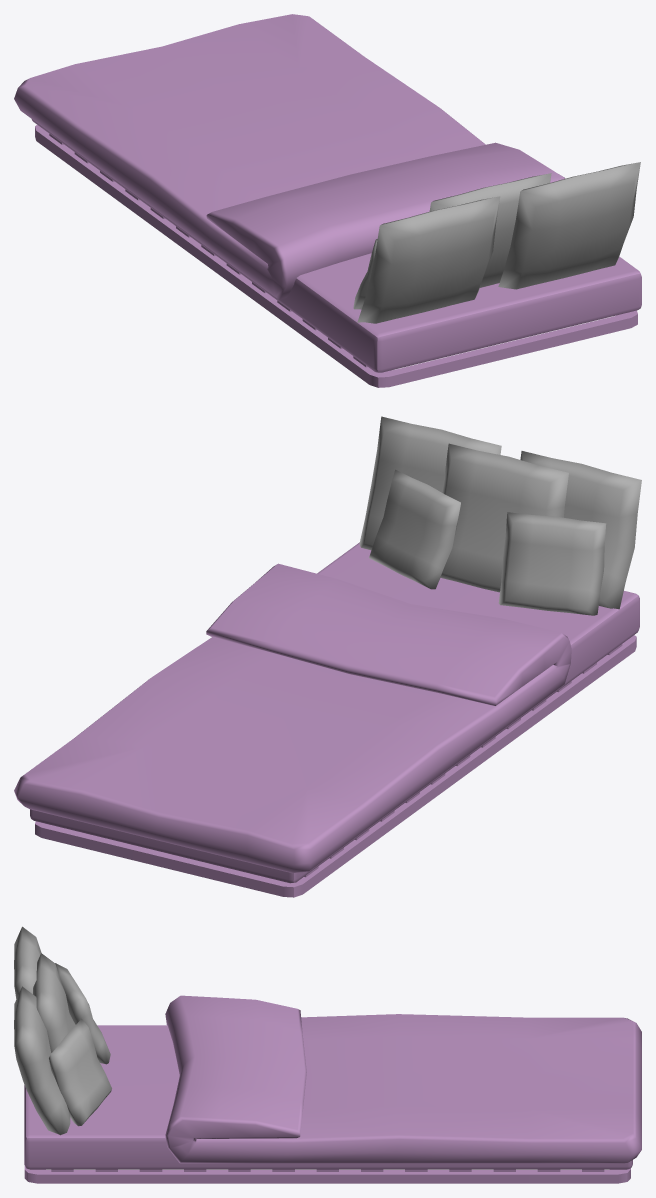
The model's file is SM_Room_Boy_Matress_Cushion.fbx.
3 views of the same model, one above another, from view 1: azimuth 30°, elevation 25°; view 2: azimuth 150°, elevation 25°; view 3: azimuth 270°, elevation 25° (orthographic). The views are drawn at different scales.
Visible parts, largest first — view 1: Mattress, cushion; view 2: Mattress, cushion; view 3: Mattress, cushion.
Boxes of the visible parts, box(x1,y1,x2,y2) form: Mattress: box(14, 14, 641, 387); cushion: box(353, 162, 640, 323); Mattress: box(14, 542, 639, 897); cushion: box(359, 416, 641, 615); Mattress: box(24, 995, 641, 1183); cushion: box(14, 926, 111, 1135).
Size of the model in its own units: 1.51 by 0.8053 by 3.16.
